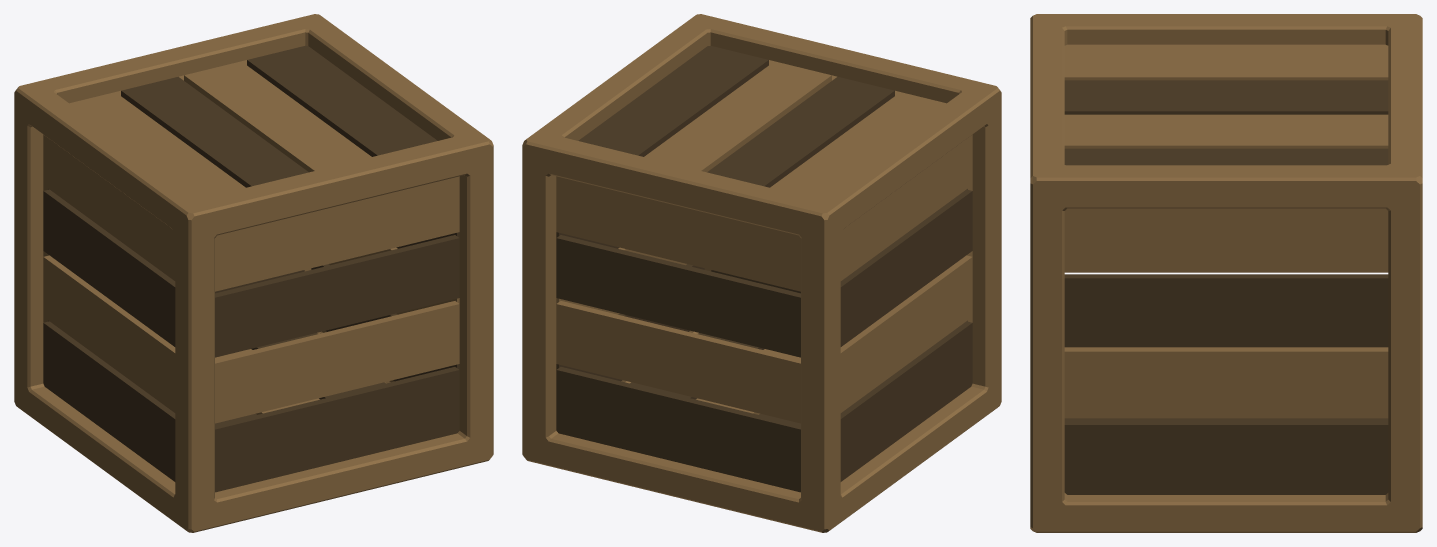
Rendered from Caja.fbx.
3 renders of one model, left to right at view 1: azimuth 30°, elevation 25°; view 2: azimuth 150°, elevation 25°; view 3: azimuth 270°, elevation 25°, orthographic. The views are drawn at different scales.
Visible parts, largest first — view 1: Cube.041; view 2: Cube.041; view 3: Cube.041.
Part boxes in pixels (left/top/right/bottom): Cube.041: left=14, top=14, right=493, bottom=532; Cube.041: left=522, top=14, right=1001, bottom=532; Cube.041: left=1030, top=14, right=1422, bottom=532.
Bounding box in the file's own units: 2 × 2 × 2.
